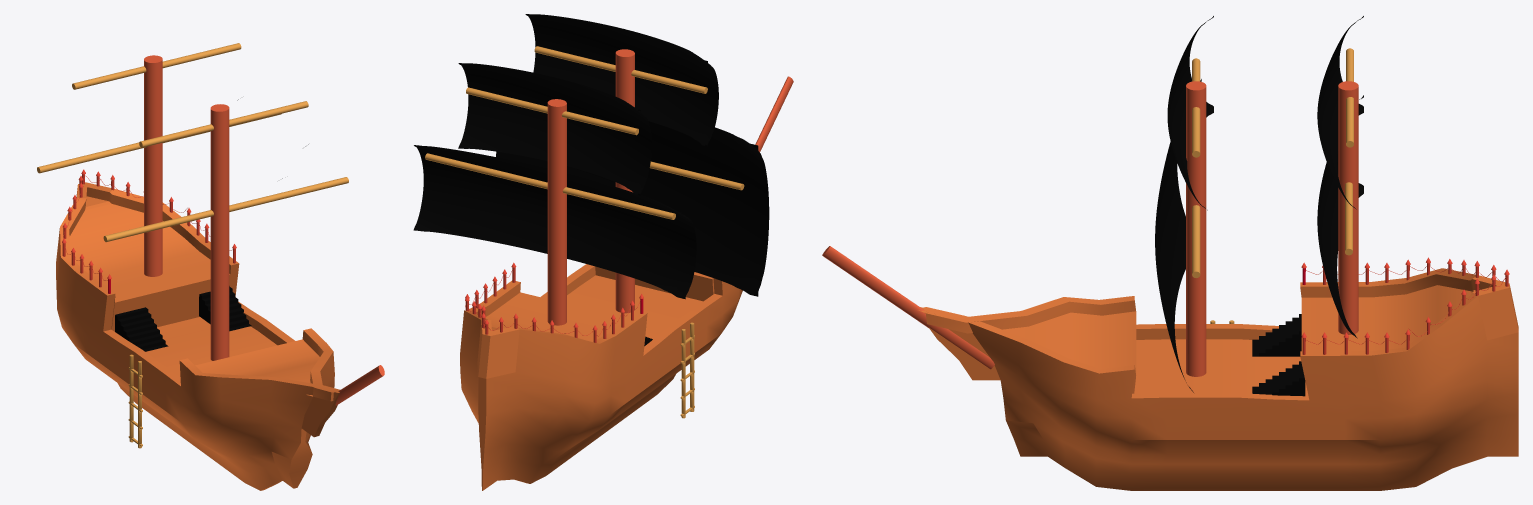
The model's file is boat 1.fbx.
The picture shows the model from 3 angles, left to right: view 1: azimuth 30°, elevation 25°; view 2: azimuth 150°, elevation 25°; view 3: azimuth 270°, elevation 25°; orthographic projection. The views are drawn at different scales.
Visible parts, largest first — view 1: Circle.001; view 2: Circle.001; view 3: Circle.001.
Part boxes in pixels (x1,y1,x2,y2): Circle.001: (37,43,384,490); Circle.001: (413,14,793,490); Circle.001: (822,16,1518,490).
Size of the model in its own units: 8304 by 11017 by 16285.
